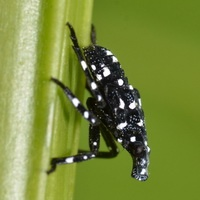insect: (47, 23, 149, 180)
